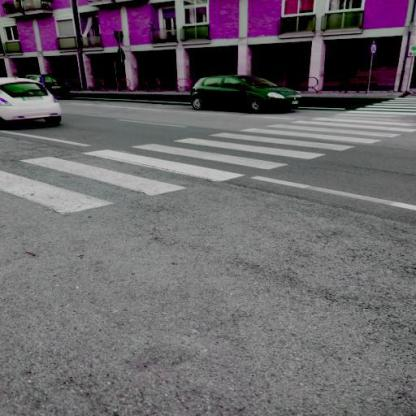crosswalk: (15, 149, 248, 199), (229, 118, 416, 140)
